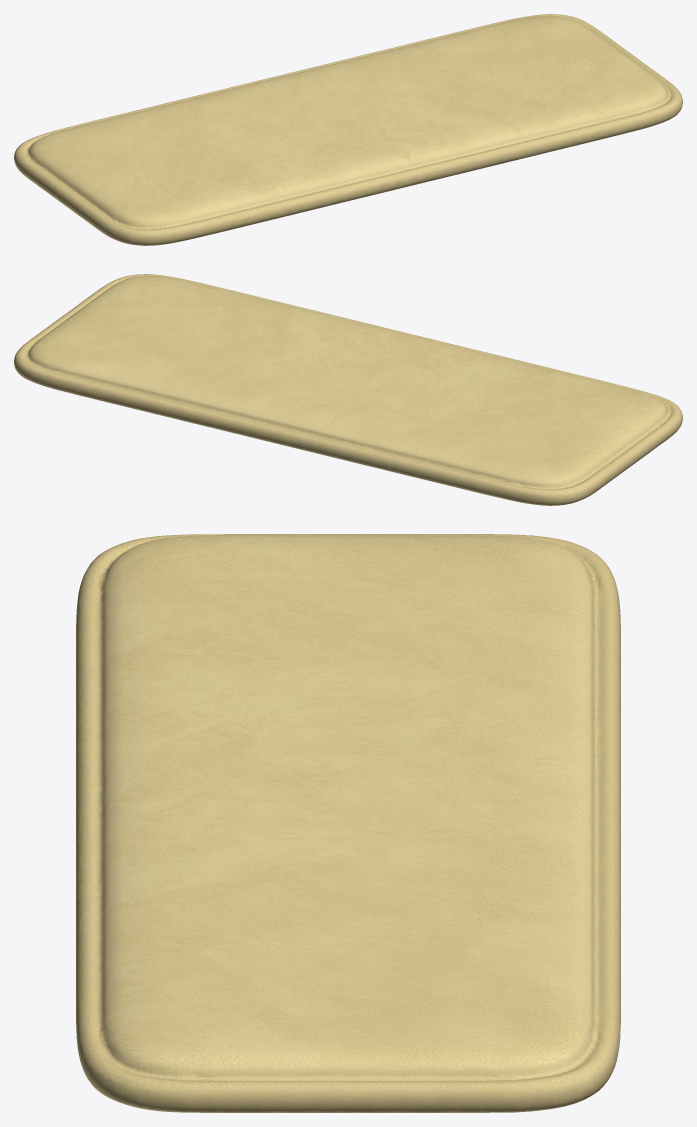
File: Meshy_AI_Plush_Beige_Rectangular_Rug_20261109_texture.fbx
The picture shows the model from 3 angles, top to bottom: view 1: azimuth 30°, elevation 25°; view 2: azimuth 150°, elevation 25°; view 3: azimuth 270°, elevation 25°; orthographic projection. The views are drawn at different scales.
Visible parts, largest first — view 1: Mesh_0; view 2: Mesh_0; view 3: Mesh_0.
Boxes of the visible parts, box(x1,y1,x2,y2) form: Mesh_0: box(14, 14, 682, 245); Mesh_0: box(14, 274, 682, 505); Mesh_0: box(76, 534, 620, 1112).
Bounding box in the file's own units: 190 × 8.75 × 78.33.
Materials: 1 (1 with a texture image).
